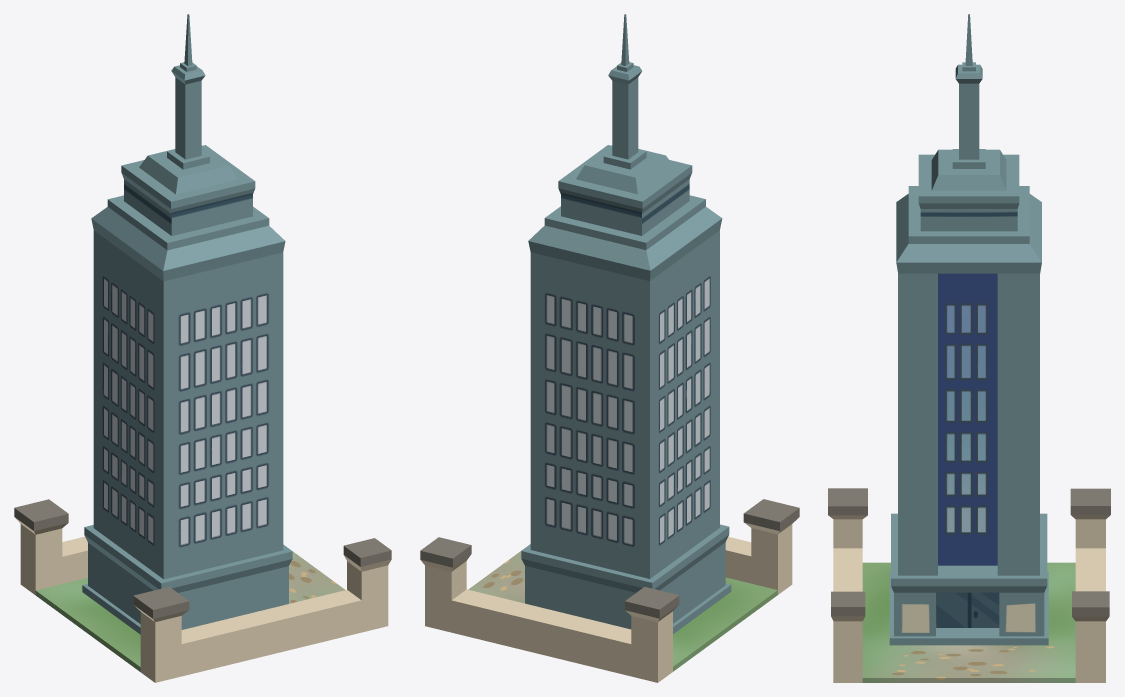
File: building_T1.fbx
3 views of the same model, side by side, from view 1: azimuth 30°, elevation 25°; view 2: azimuth 150°, elevation 25°; view 3: azimuth 270°, elevation 25° (orthographic).
Parts seen in each view (by area): view 1: building_T1; view 2: building_T1; view 3: building_T1.
Part boxes in pixels (x1,y1,x2,y2): building_T1: [14, 14, 391, 682]; building_T1: [420, 14, 799, 682]; building_T1: [828, 14, 1110, 682].
Bounding box in the file's own units: 207 × 488 × 207.
